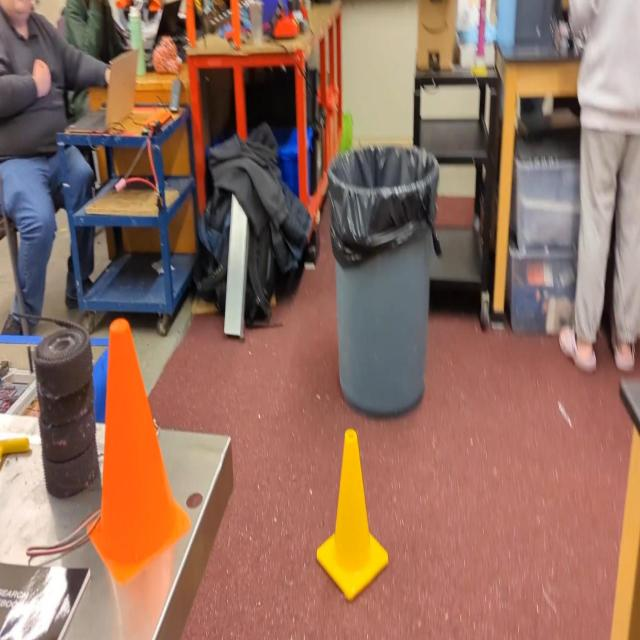frc_cone: (317, 429, 392, 599)
